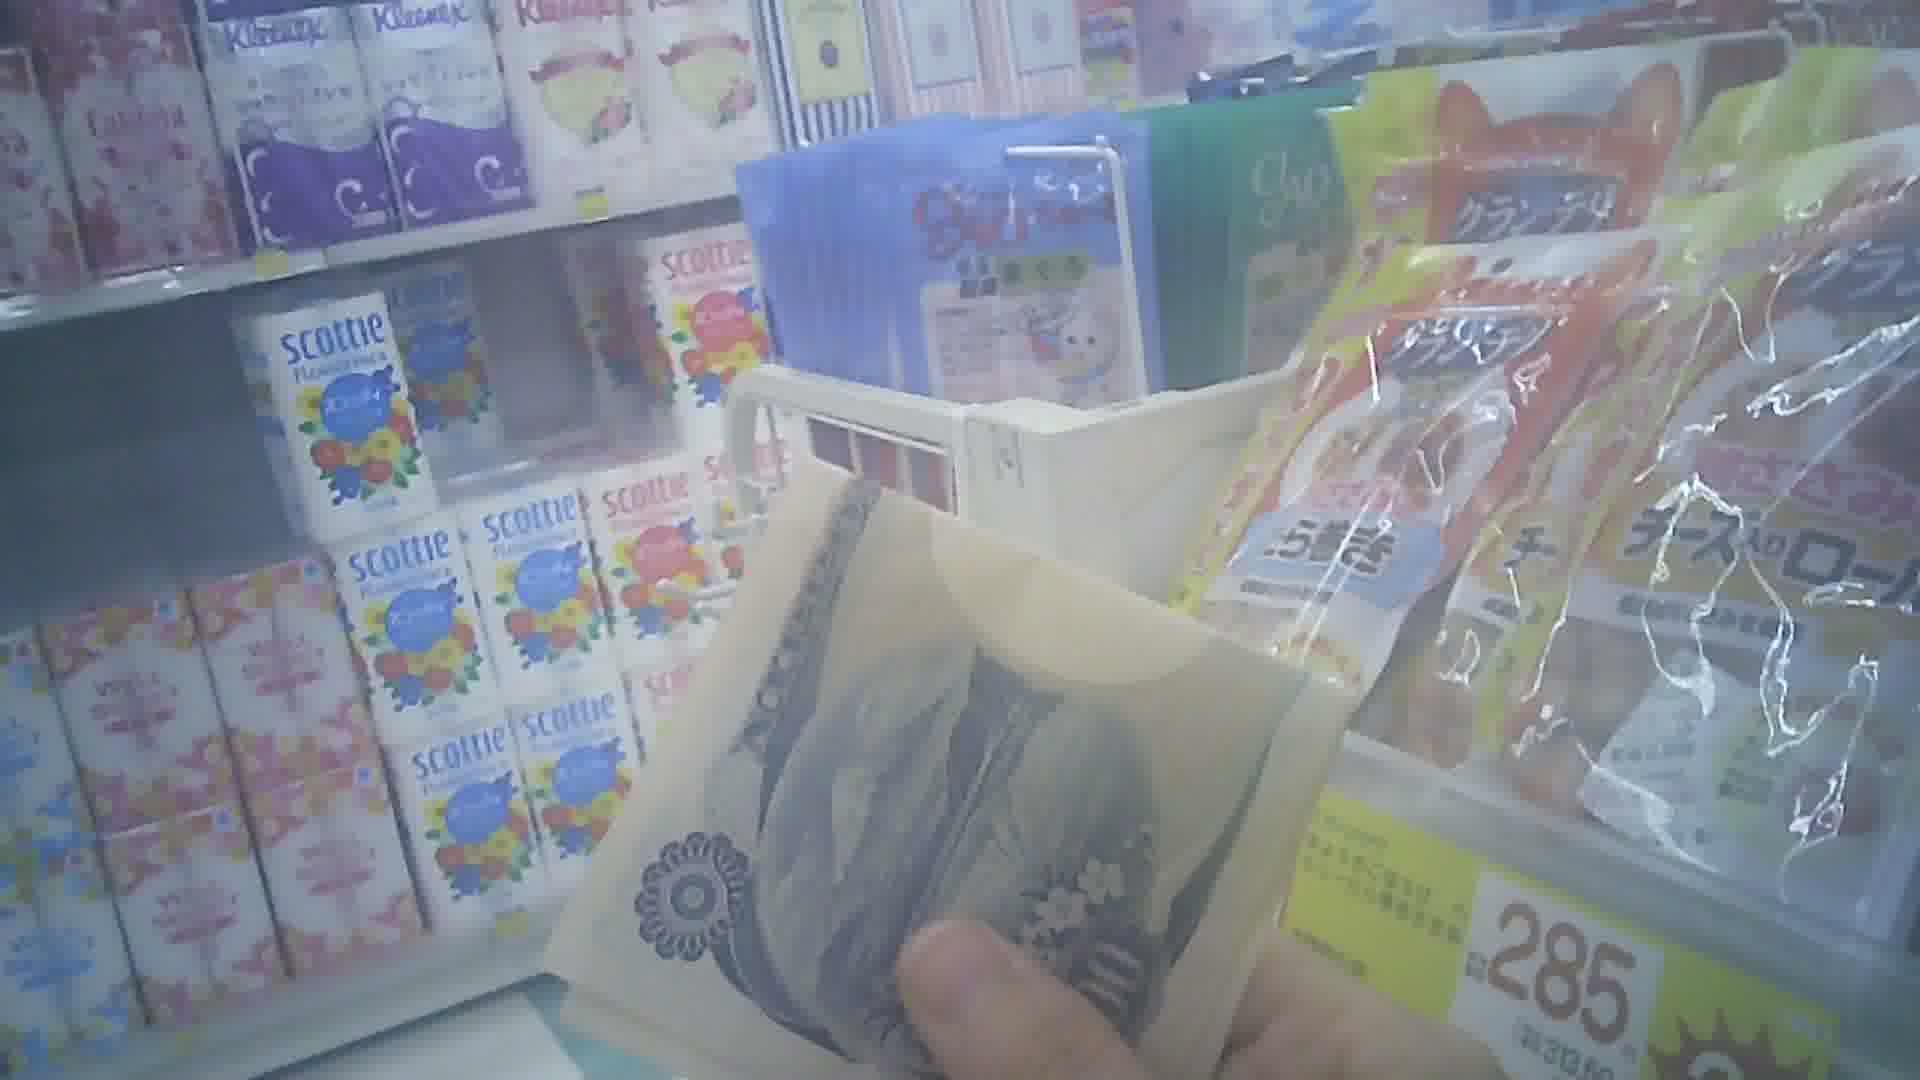1,000 Yen: (587, 462, 1311, 1079)
